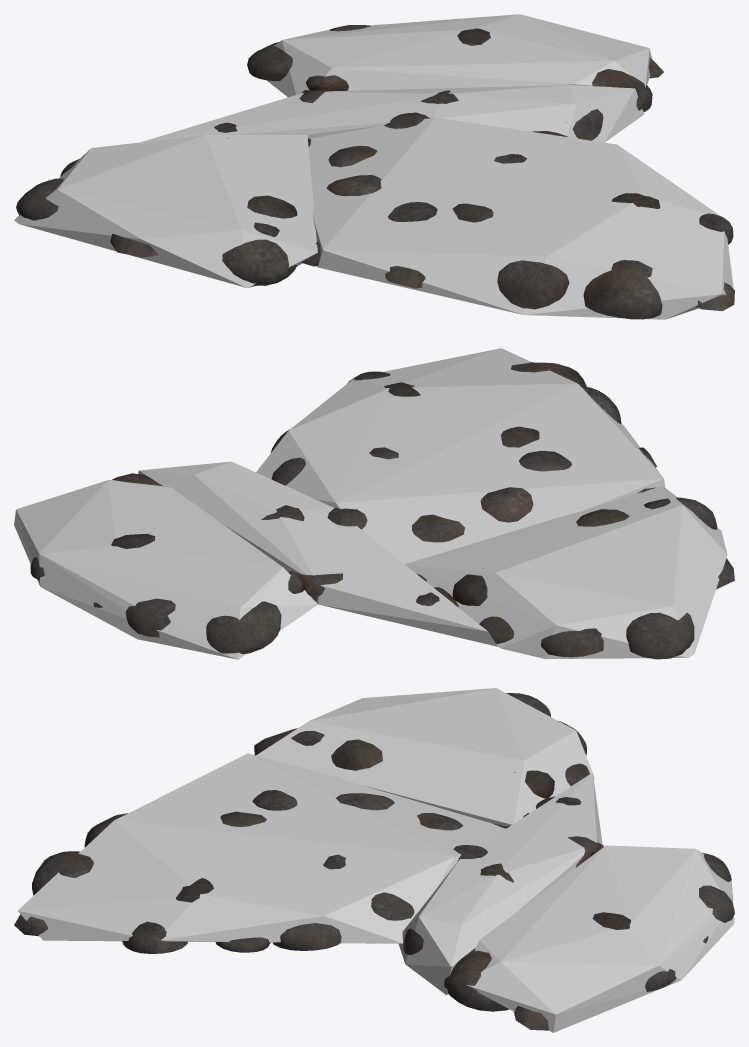
The model's file is SM_Small_rocks_02.fbx.
3 views of the same model, one above another, from view 1: azimuth 30°, elevation 25°; view 2: azimuth 150°, elevation 25°; view 3: azimuth 270°, elevation 25° (orthographic). The views are drawn at different scales.
Visible parts, largest first — view 1: SM_Small_rocks_02_ConvexHulls, SM_Small_rocks_02; view 2: SM_Small_rocks_02_ConvexHulls, SM_Small_rocks_02; view 3: SM_Small_rocks_02_ConvexHulls, SM_Small_rocks_02.
Boxes of the visible parts, x1=… form: SM_Small_rocks_02_ConvexHulls: x1=14, y1=14, x2=733, y2=319; SM_Small_rocks_02: x1=16, y1=25, x2=734, y2=319; SM_Small_rocks_02_ConvexHulls: x1=14, y1=348, x2=727, y2=659; SM_Small_rocks_02: x1=30, y1=362, x2=734, y2=659; SM_Small_rocks_02_ConvexHulls: x1=18, y1=688, x2=734, y2=1032; SM_Small_rocks_02: x1=14, y1=693, x2=734, y2=1030.
Bounding box in the file's own units: 752 × 738 × 75.06.
Materials: 2 (1 with a texture image).
